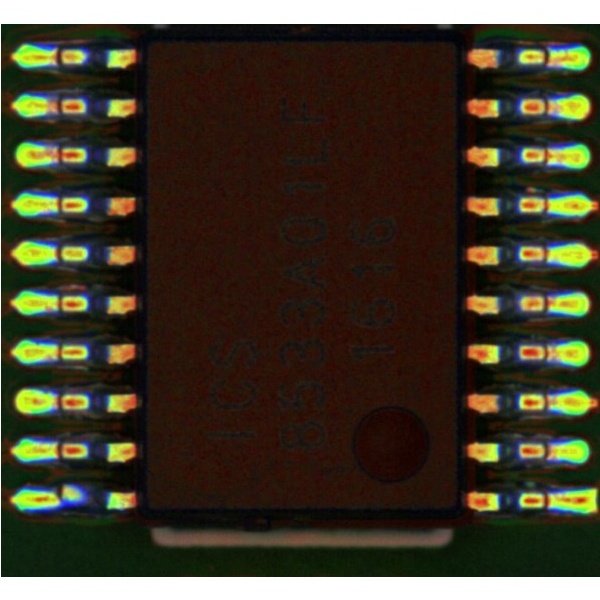Bad_podu: (38, 146, 72, 160), (39, 49, 70, 62), (43, 99, 71, 112), (530, 53, 563, 64), (534, 148, 557, 162), (534, 343, 554, 359), (534, 296, 555, 311), (534, 394, 557, 407), (536, 443, 557, 457), (536, 98, 556, 112)
